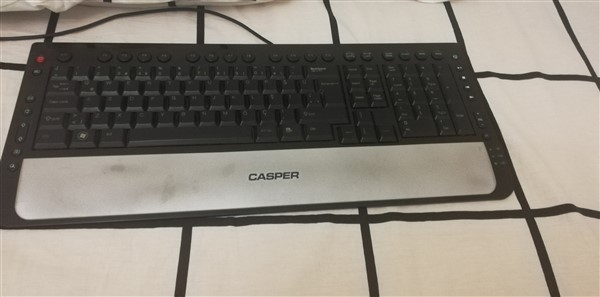klavye: (6, 39, 513, 237)
